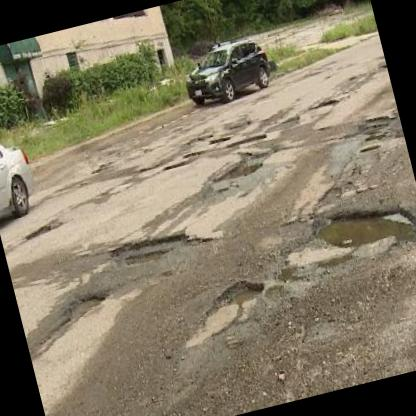pothole: (309, 189, 416, 266), (181, 270, 278, 342), (107, 218, 216, 273), (61, 288, 112, 322), (210, 156, 268, 185)
